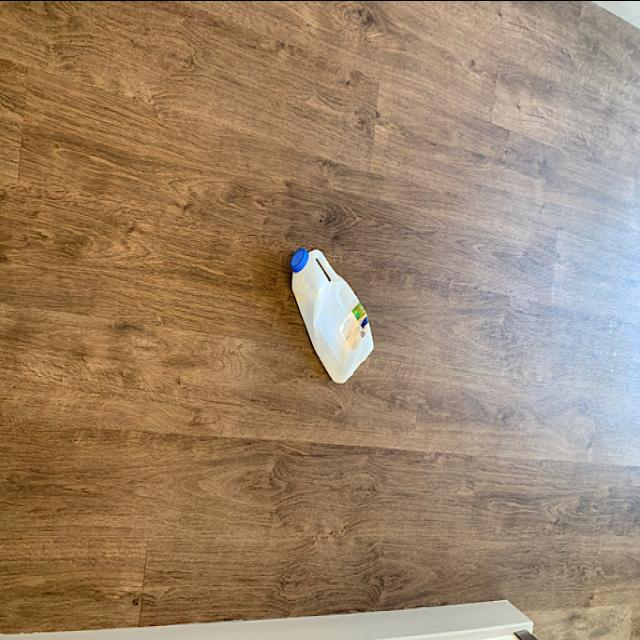HDPEM: (288, 242, 381, 384)
